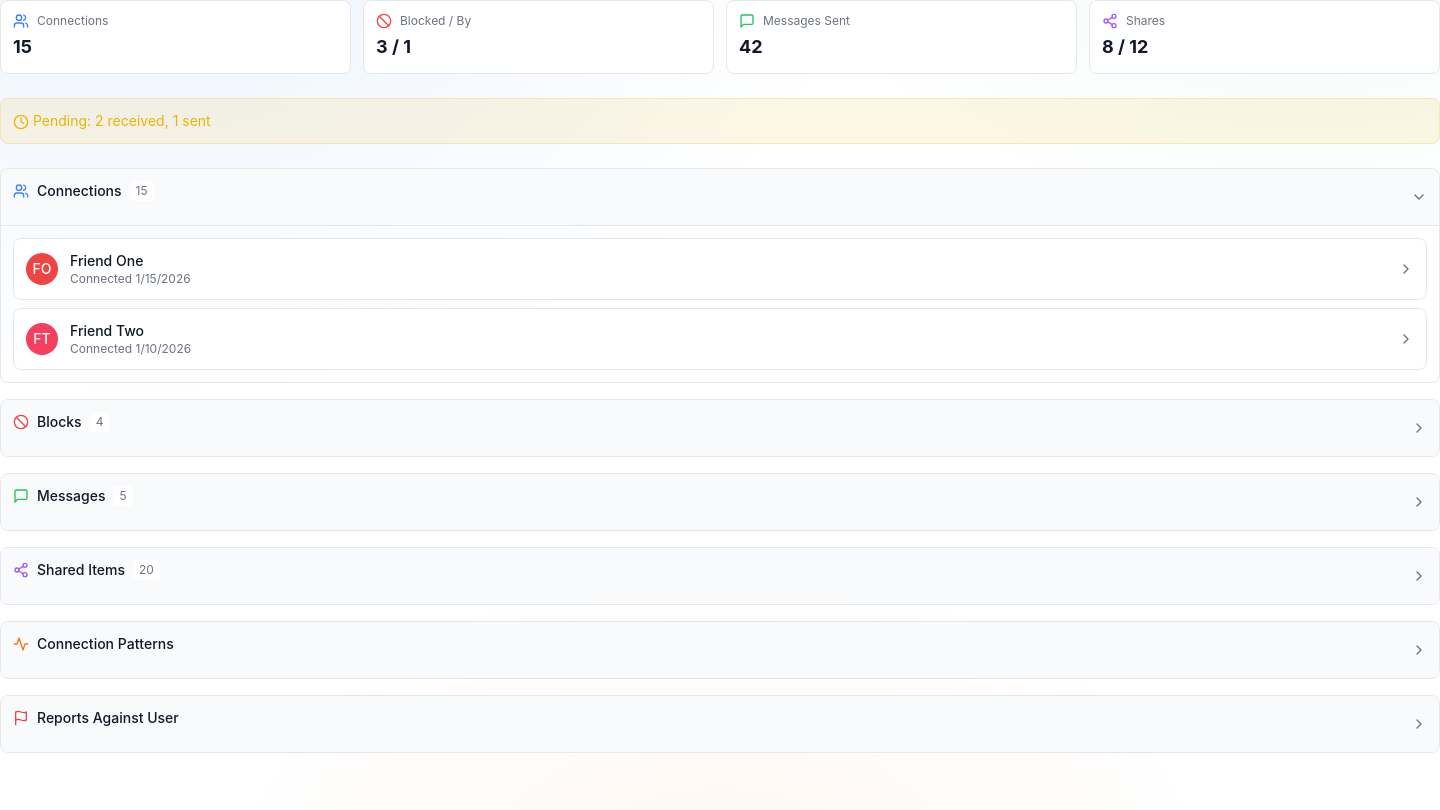
Test: UserSocialTab › shares section shows empty state when no shares
Expected: the text "8 / 12" is shown, [1102, 36, 1148, 57]
What coordinates should you click on to do the following:
click the button "Shares 8 / 12"
I would click on:
 (1146, 20)
Its box is [1089, 0, 1439, 74].
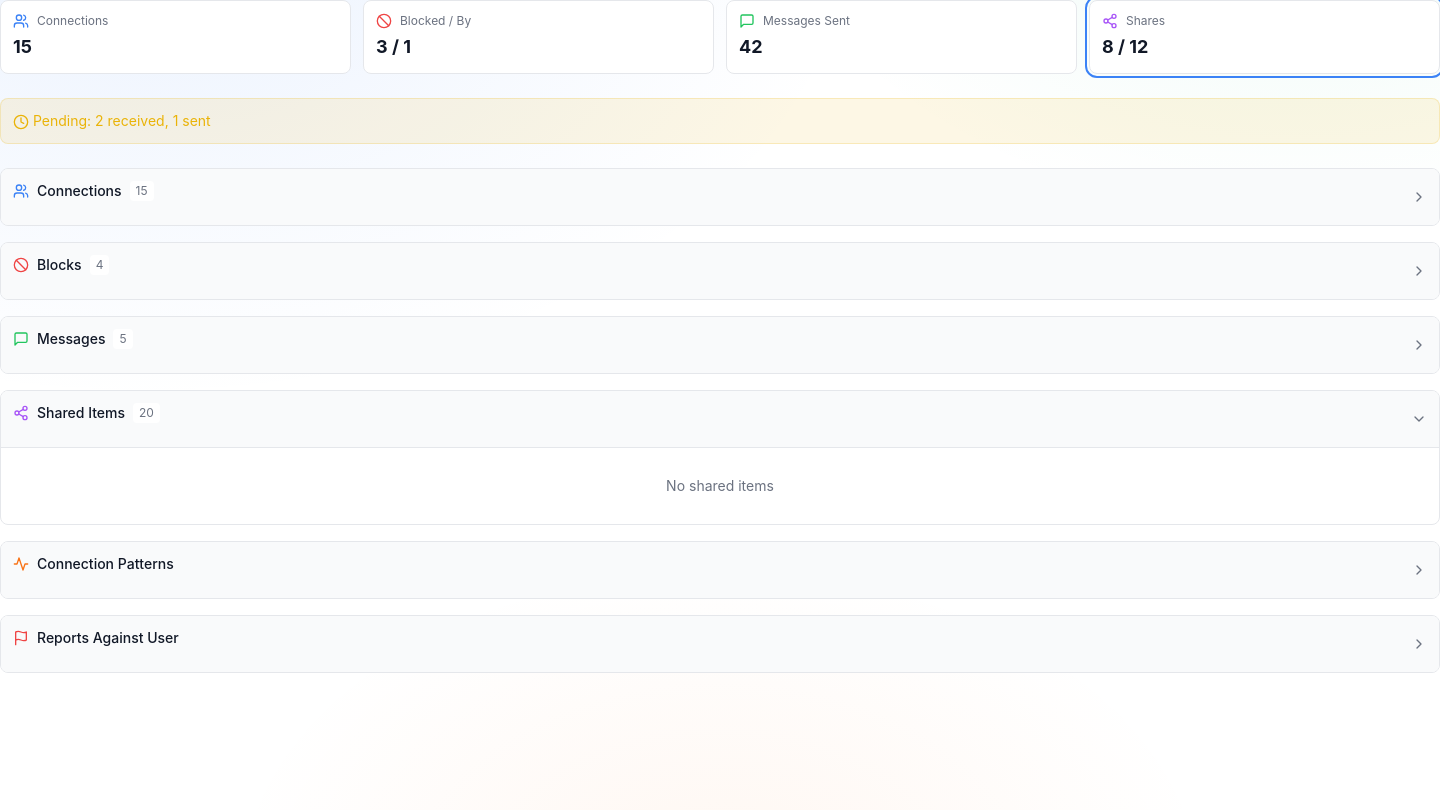
Now the text "No shared items" is shown, box [666, 477, 774, 494]
